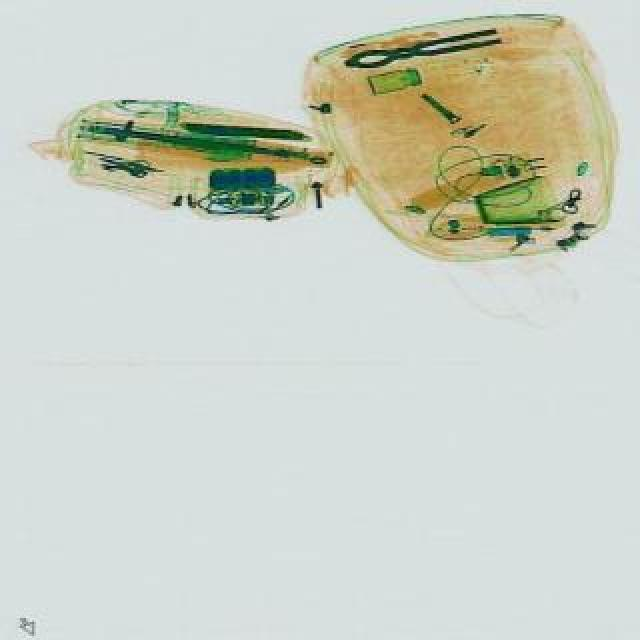wrench: (344, 30, 508, 74)
